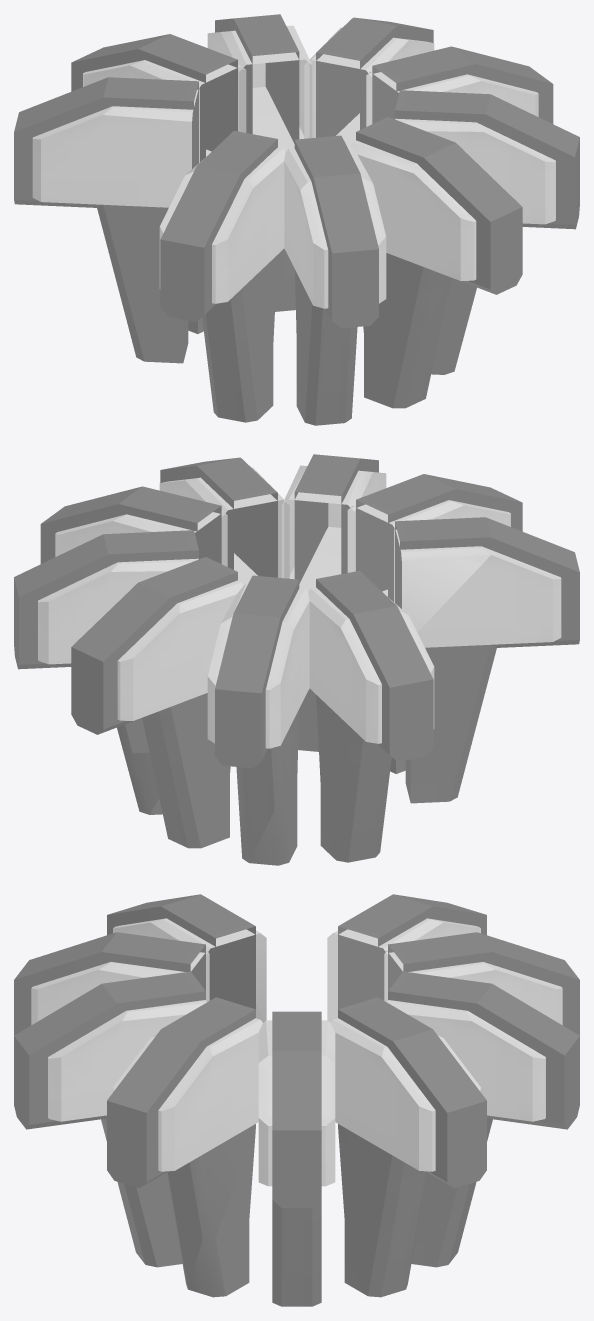
File: drop_fans.glb
3 views of the same model, one above another, from view 1: azimuth 30°, elevation 25°; view 2: azimuth 150°, elevation 25°; view 3: azimuth 270°, elevation 25° (orthographic). The views are drawn at different scales.
Visible parts, largest first — view 1: drop_fan; view 2: drop_fan; view 3: drop_fan.
Boxes of the visible parts, x1,y1,x2,y2 form: drop_fan: [14, 14, 579, 425]; drop_fan: [14, 454, 579, 865]; drop_fan: [14, 894, 579, 1306].
Size of the model in its own units: 0.7738 by 0.4274 by 0.8136.
1 material, 1 textured.
